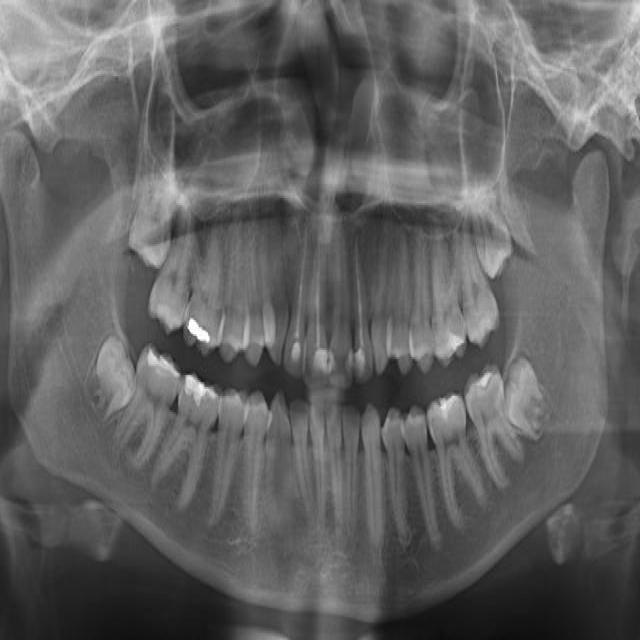dentin-curugu: (322, 339, 353, 391)
dolgu: (174, 367, 219, 440), (141, 339, 179, 400), (185, 304, 217, 359), (308, 338, 339, 387), (352, 334, 373, 380), (288, 342, 306, 376)
kanal-tedavisi: (285, 212, 308, 334), (349, 230, 368, 341), (310, 235, 326, 338)
